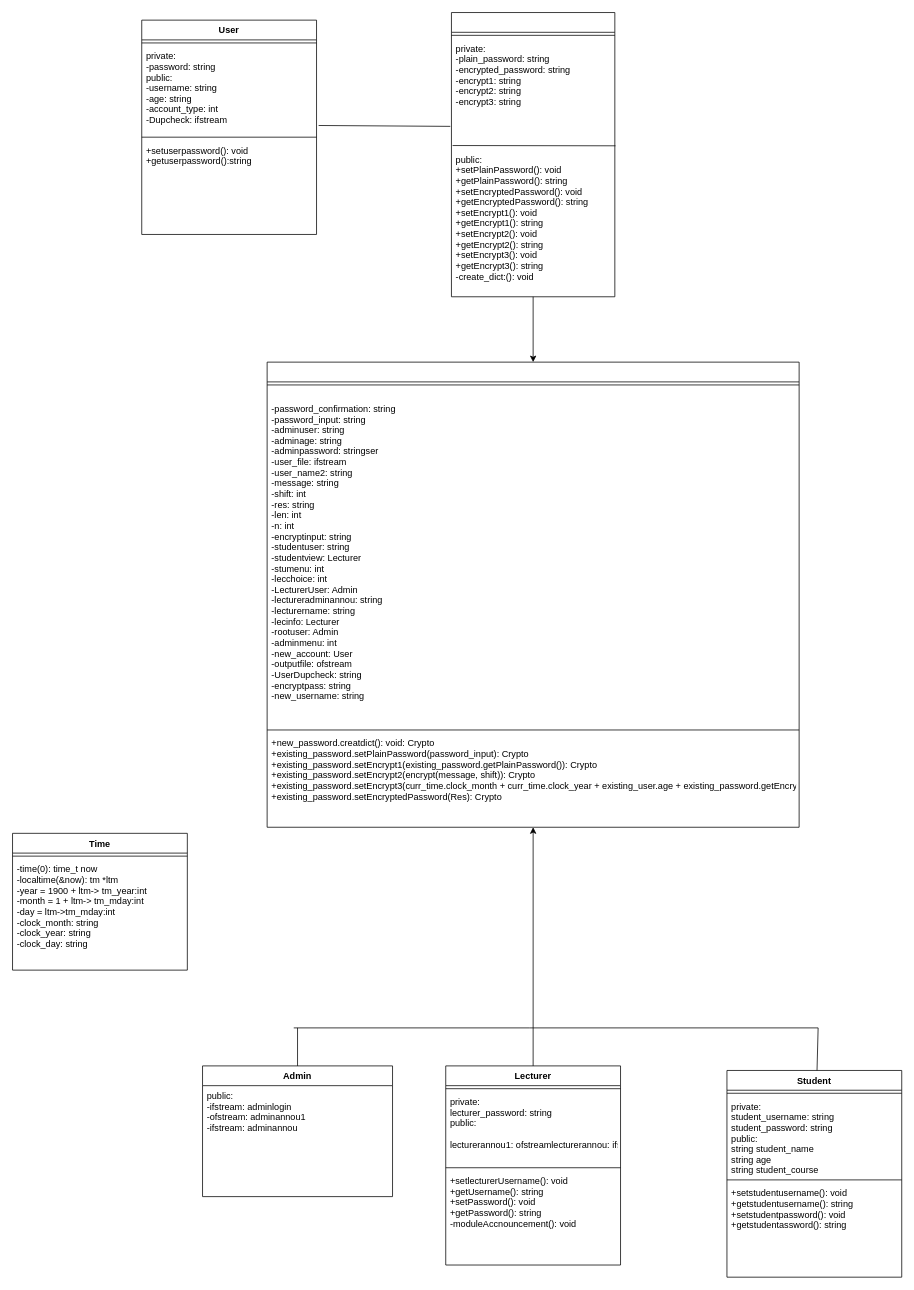
The diagram is 914 pixels wide and 1290 high, and some of its shapes have lost their labels. Each missing label, with the box of its shape:
Crypto: (451, 12, 615, 297)
Main: (266, 361, 799, 827)
